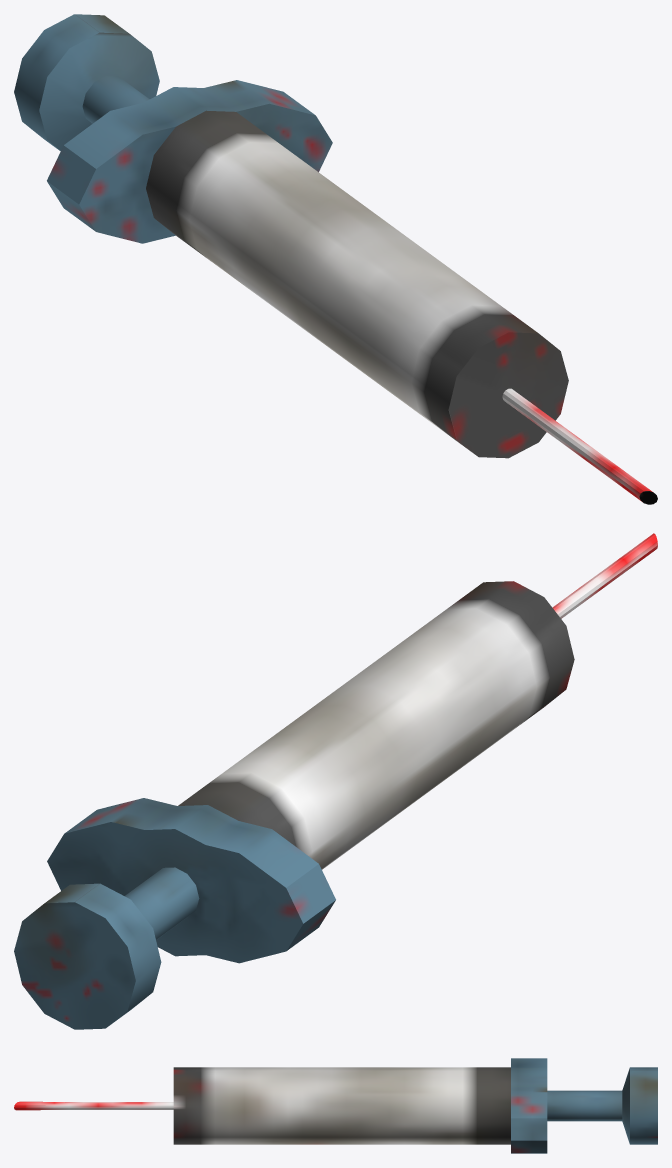
File: Trash_Syringe.fbx
3 views of the same model, one above another, from view 1: azimuth 30°, elevation 25°; view 2: azimuth 150°, elevation 25°; view 3: azimuth 270°, elevation 25° (orthographic). The views are drawn at different scales.
Visible parts, largest first — view 1: MeshSyringe; view 2: MeshSyringe; view 3: MeshSyringe.
Boxes of the visible parts, x1,y1,x2,y2 form: MeshSyringe: (14, 14, 657, 504); MeshSyringe: (14, 533, 657, 1029); MeshSyringe: (14, 1058, 657, 1153).
Size of the model in its own units: 5.59 by 2.66 by 22.04.
